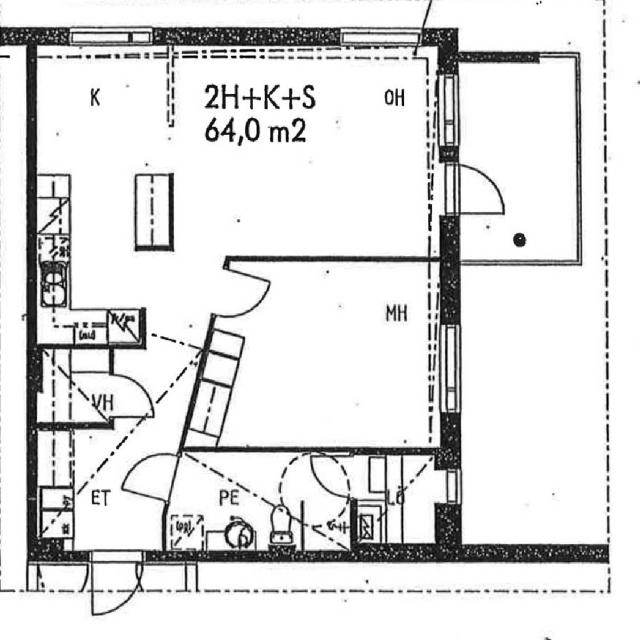door: (211, 267, 269, 327), (91, 550, 142, 618), (124, 444, 181, 503), (441, 164, 505, 213), (109, 375, 152, 418), (314, 457, 357, 498)
